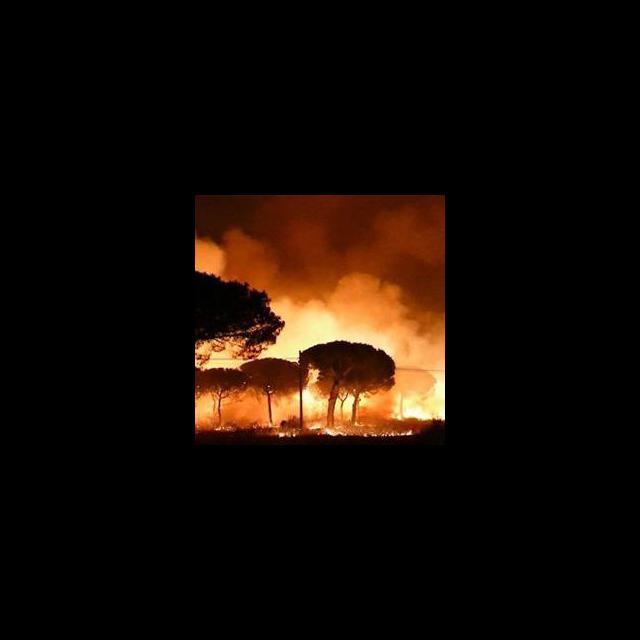Fire: (196, 297, 445, 440)
